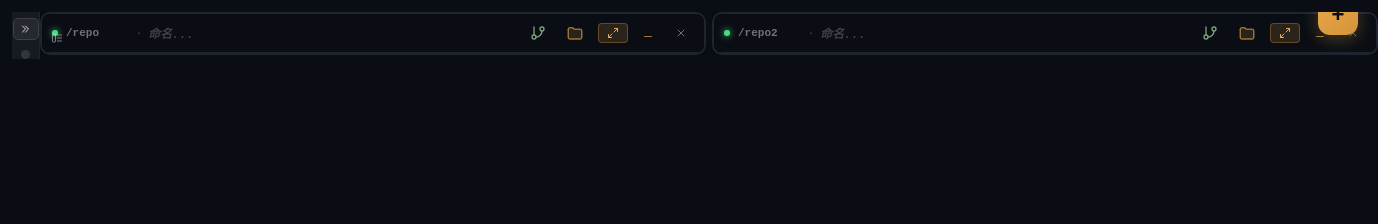
Test: worktree 弹窗锚定：收起终端下标错位回归（fix/worktree-popover-anchor） › 收起终端在前 + 两可见 tile（下标错位）：弹窗锚在被点按钮的 rect 而非邻 tile
Check: the number of elements with class "tile" is 2, box [40,12,706,55]; [712,12,1377,55]
Step 1. Click the 1st button with class "tile-worktree-btn" → [538, 33], box [524,21,552,45]
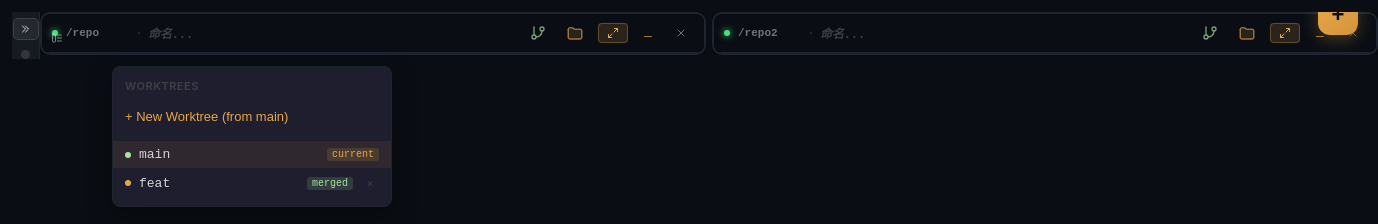
Check: the element with class "worktree-popover" is shown, box [112,66,392,207]
